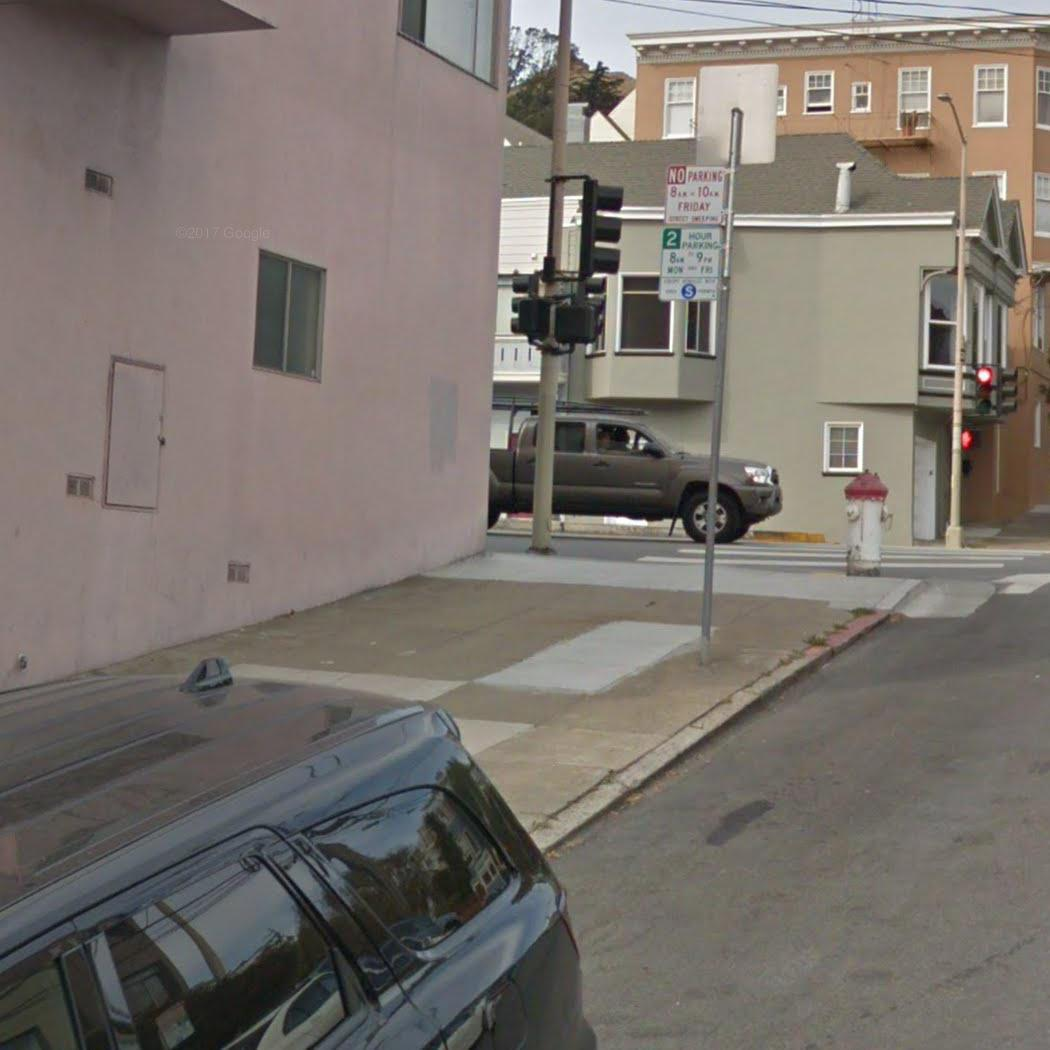2 Hour Parking: (657, 226, 726, 302)
No Parking: (662, 162, 729, 226)
